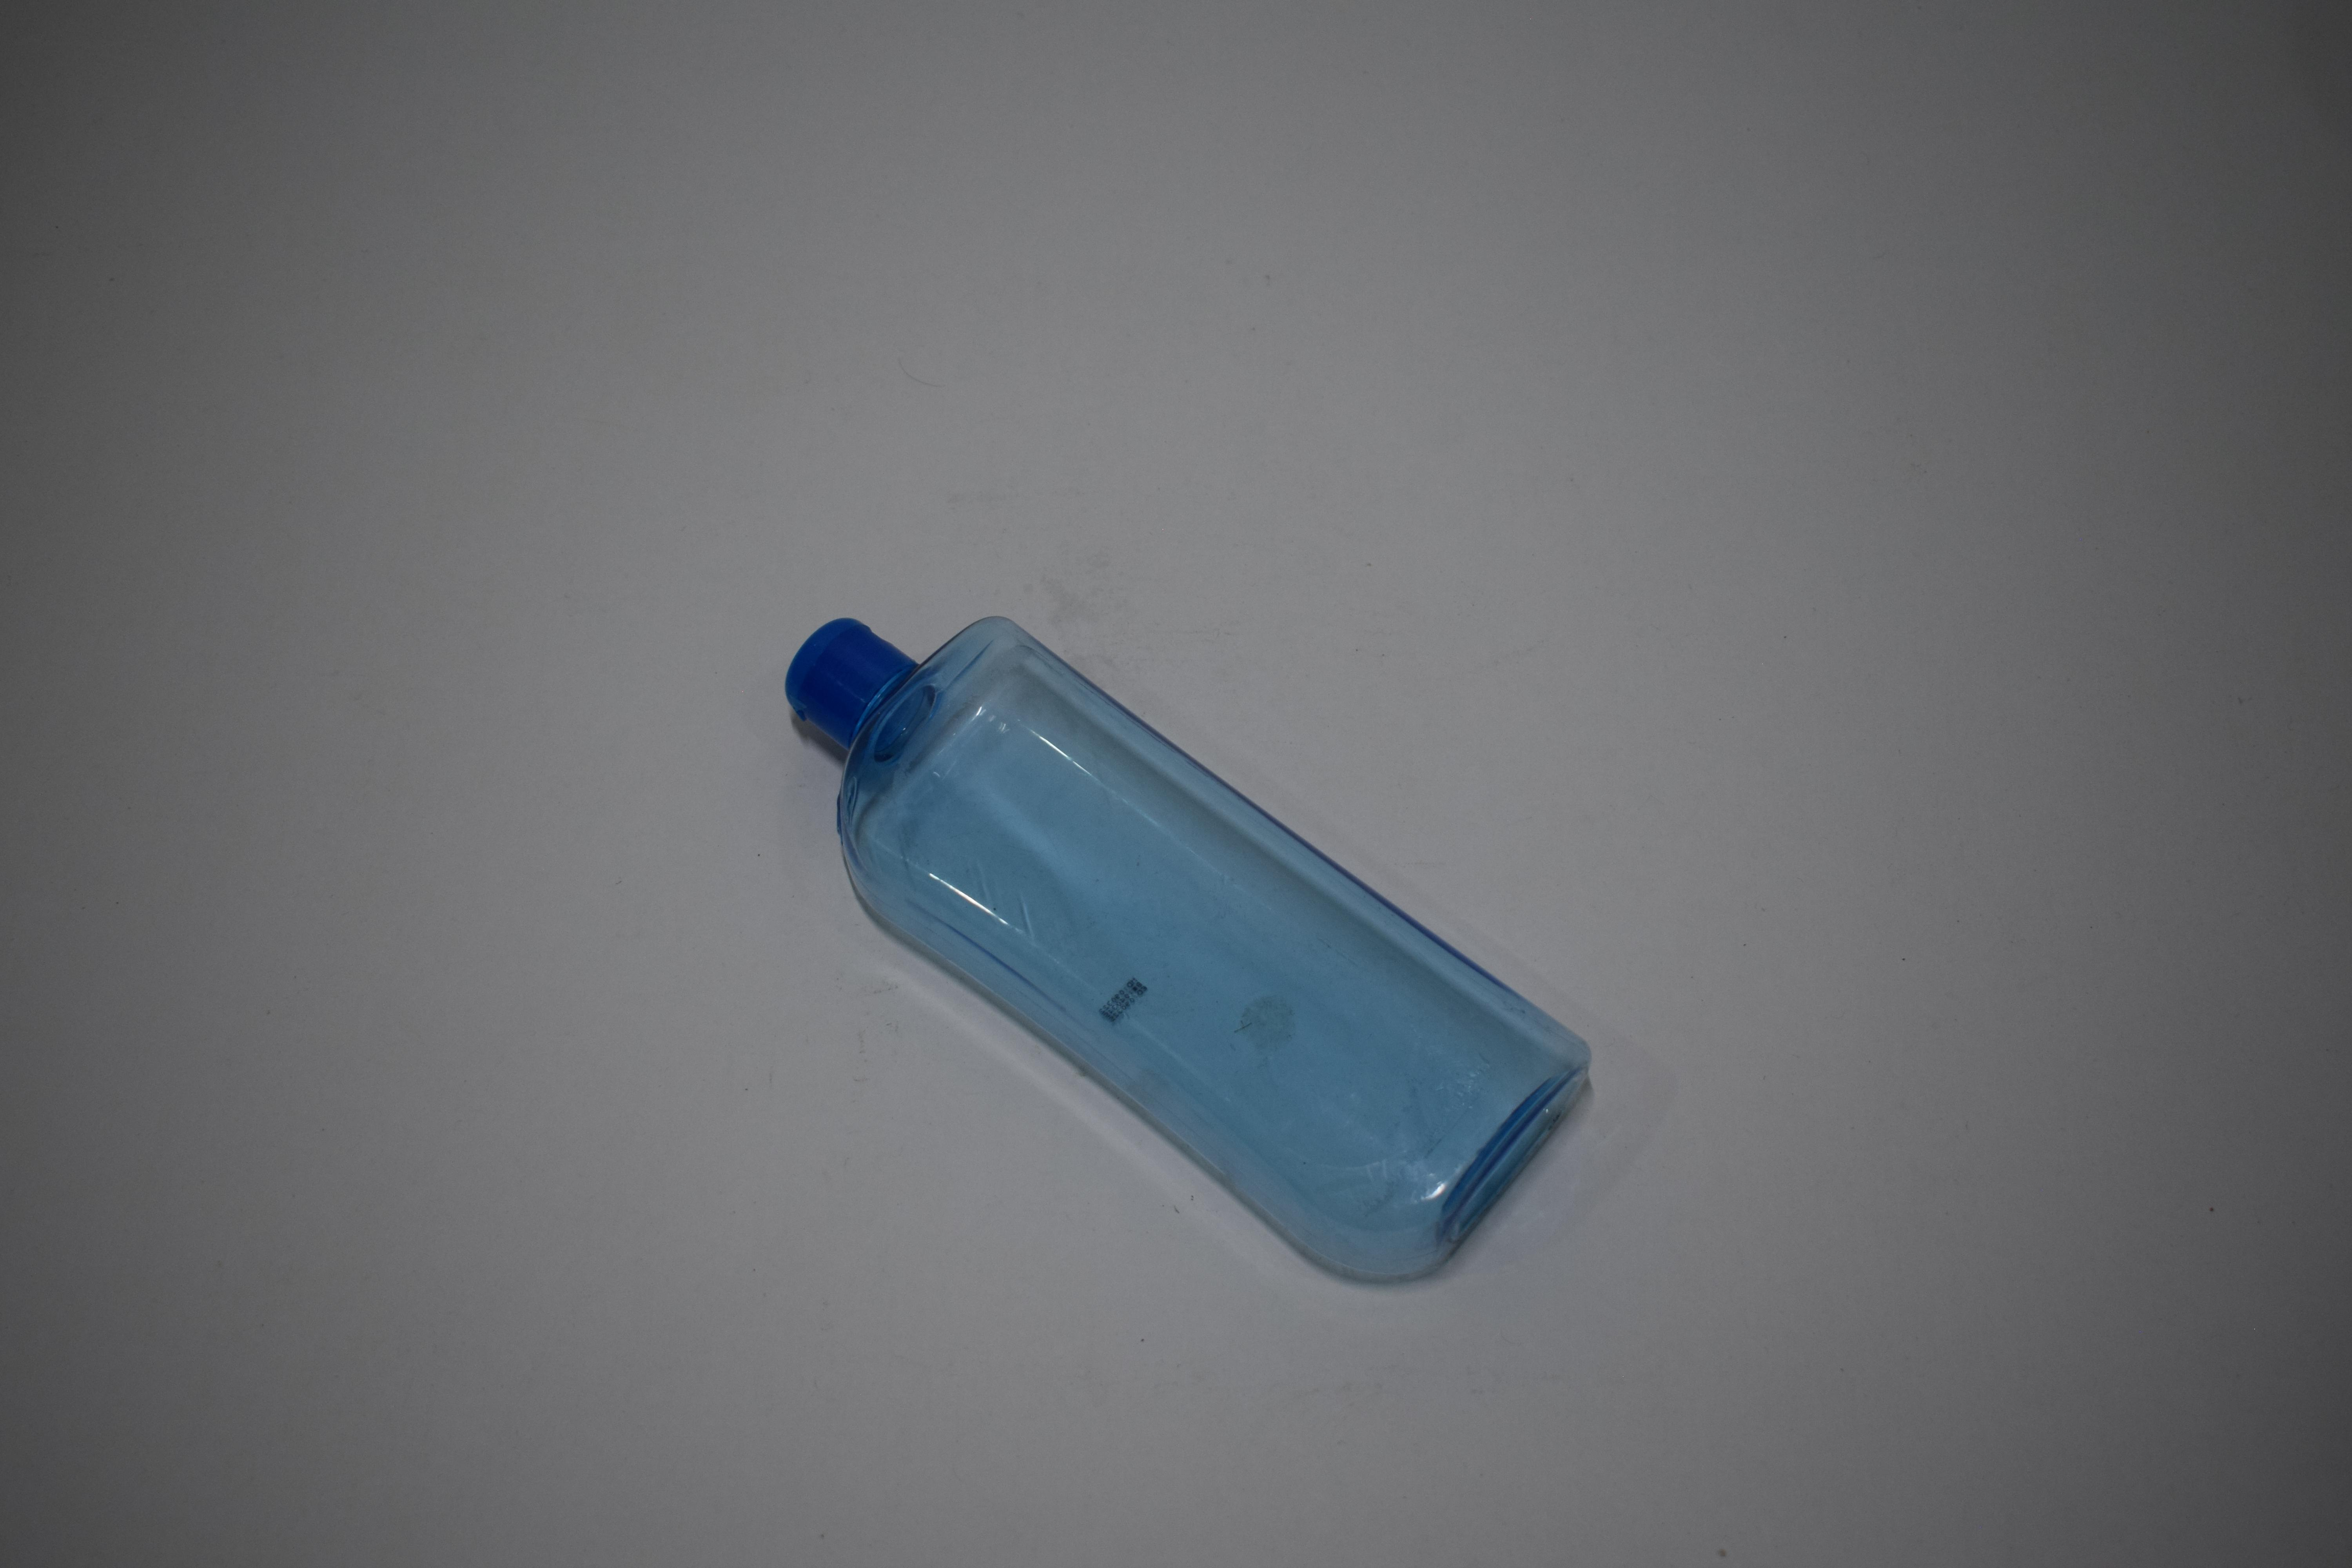bottle: (0, 595, 408, 1286)
